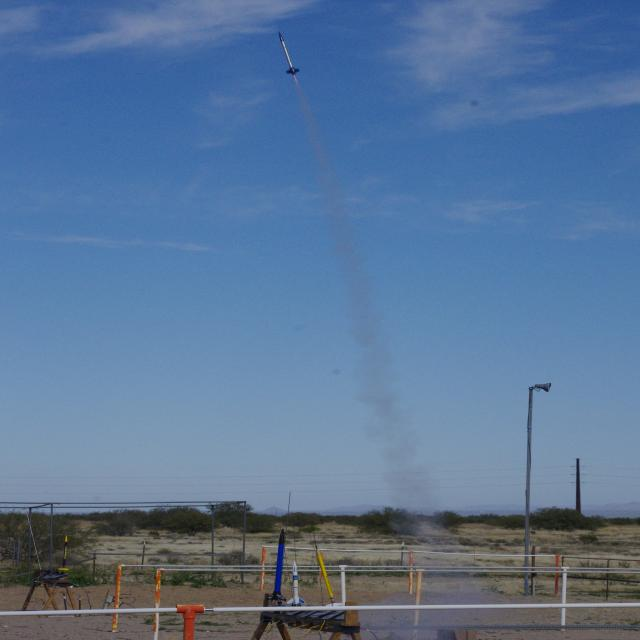Rocket: (314, 544, 342, 606), (267, 528, 287, 602), (278, 32, 300, 76), (287, 560, 306, 604), (58, 535, 70, 571)
